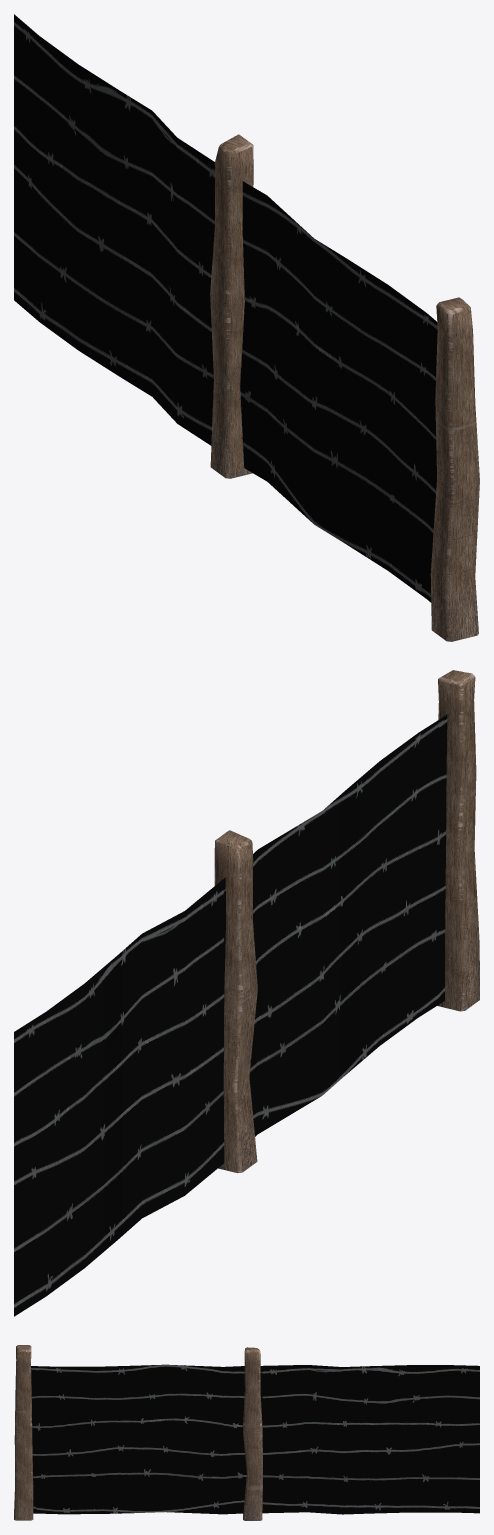
The model's file is wire_fence.glb.
The picture shows the model from 3 angles, top to bottom: view 1: azimuth 30°, elevation 25°; view 2: azimuth 150°, elevation 25°; view 3: azimuth 270°, elevation 25°; orthographic projection. The views are drawn at different scales.
Visible parts, largest first — view 1: Plane.016; view 2: Plane.016; view 3: Plane.016.
Part boxes in pixels (left/top/right/bottom): Plane.016: left=14, top=14, right=479, bottom=641; Plane.016: left=14, top=670, right=479, bottom=1316; Plane.016: left=14, top=1345, right=479, bottom=1520.
Size of the model in its own units: 0.1801 by 1.61 by 4.04.
Materials: 2 (2 with a texture image).
